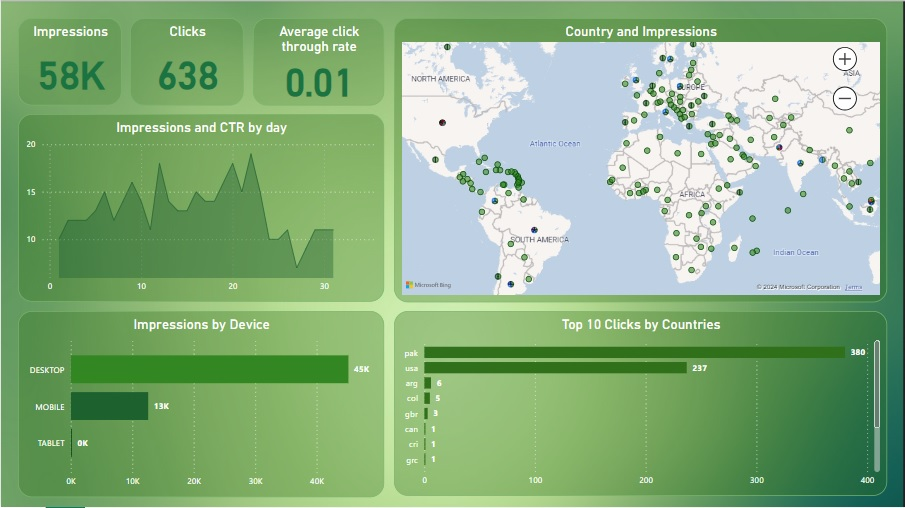

Layout of this report page (visuals, bound fields, positions):
{"tool":"powerbi","page":{"name":"Page 1","canvas":[1280,720],"ordinal":0},"visuals":[{"type":"stackedAreaChart","title":"Impressions and CTR by day","fields":{"Y":["Count(Task_2.Impressions)"],"Category":["Task_2.Date.Variation.Date Hierarchy.Day"]},"box":[24.1,163,518.7,266.5],"z":0},{"type":"clusteredBarChart","title":"Impressions by Device","fields":{"Category":["Task_2.Device"],"Y":["Sum(Task_2.Impressions)"]},"box":[24.1,442.2,518.7,263.6],"z":1000},{"type":"card","title":"Impressions","fields":{"Values":["Sum(Task_2.Impressions)"]},"box":[24.3,27.1,147.1,124.3],"z":2000},{"type":"card","title":"Clicks","fields":{"Values":["Sum(Task_2.Clicks)"]},"box":[182.9,27.1,161.4,124.3],"z":3000},{"type":"card","title":"Average click through rate","fields":{"Values":["Avg(Task_2.CTR)"]},"box":[357.1,27.1,185.7,124.3],"z":4000},{"type":"barChart","title":"Top 10 Clicks by Countries","fields":{"Category":["Task_2.Country"],"Y":["Sum(Task_2.Clicks)"]},"box":[557.1,457.1,698.6,262.9],"z":5000},{"type":"map","fields":{"Category":["Task_2.Country"],"Series":["Task_2.Impressions"]},"box":[557,26.9,698.7,402.5],"z":6000}]}

Visuals, with their boxes in screenshot pixels (x1, y1, x2, y2), scaled from the page's 1280x720 canvas onto the 905x508 screenshot:
"Impressions and CTR by day" stackedAreaChart: (17,115,384,303)
"Impressions by Device" clusteredBarChart: (17,312,384,498)
"Impressions" card: (17,19,121,107)
"Clicks" card: (129,19,243,107)
"Average click through rate" card: (252,19,384,107)
"Top 10 Clicks by Countries" barChart: (394,323,888,507)
map - Task_2.Country x Task_2.Impressions: (394,19,888,303)
